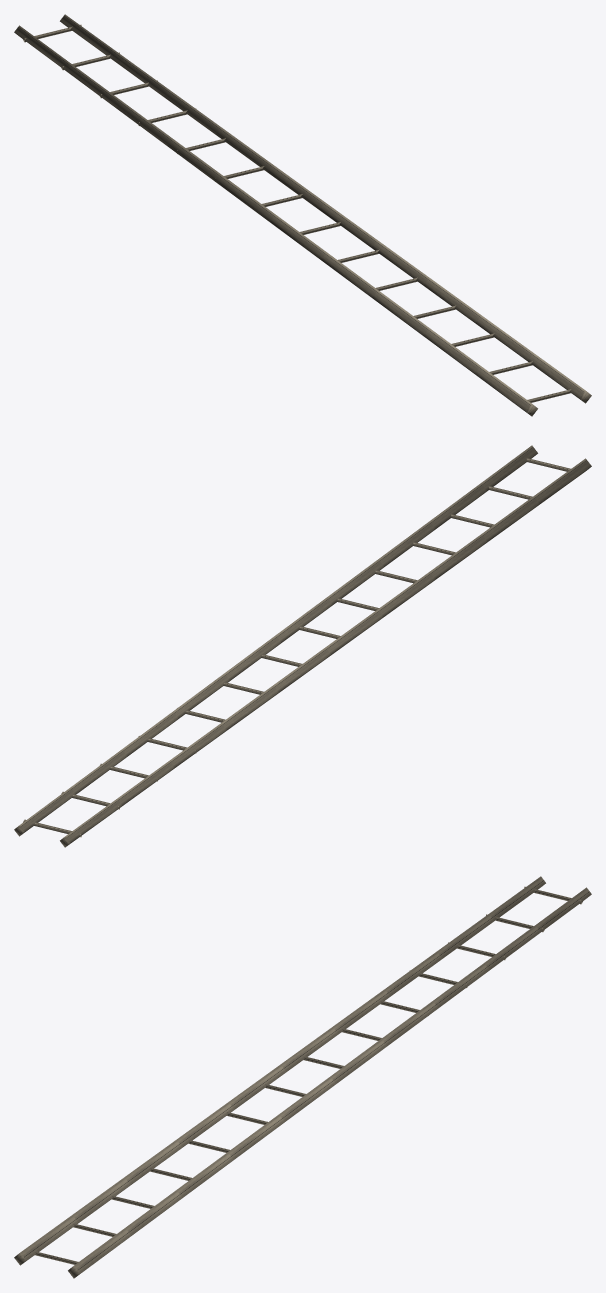
The model's file is SiegeLadder_1_LOD1.gltf.
3 views of the same model, one above another, from view 1: azimuth 30°, elevation 25°; view 2: azimuth 150°, elevation 25°; view 3: azimuth 330°, elevation 25° (orthographic).
Visible parts, largest first — view 1: SiegeLadder_1_LOD1; view 2: SiegeLadder_1_LOD1; view 3: SiegeLadder_1_LOD1.
Boxes of the visible parts, x1,y1,x2,y2 form: SiegeLadder_1_LOD1: (14, 14, 591, 416); SiegeLadder_1_LOD1: (14, 445, 591, 847); SiegeLadder_1_LOD1: (14, 876, 591, 1278).
Size of the model in its own units: 0.74 by 0.14 by 10.
1 material, 1 textured.
